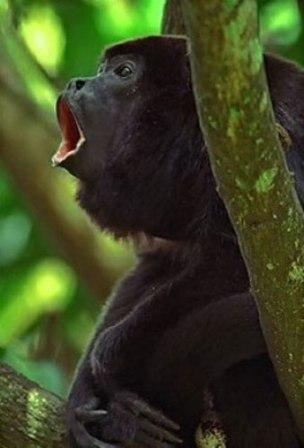monkey: (51, 36, 303, 448)
